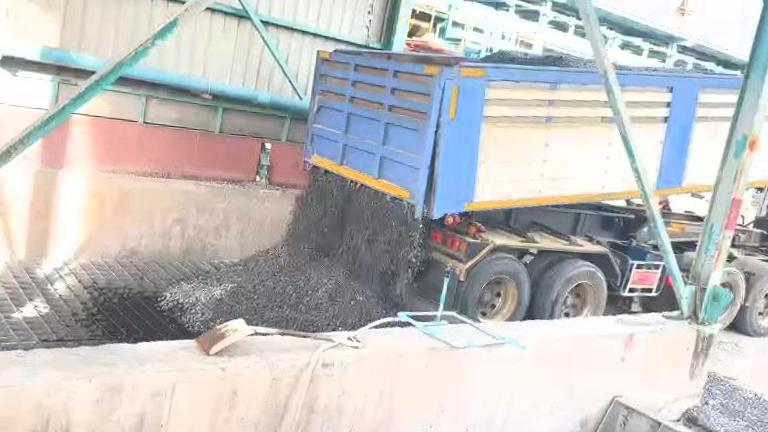gravel: (162, 170, 423, 331), (697, 375, 768, 432), (476, 49, 596, 70)
